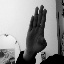b: (24, 3, 50, 56)
